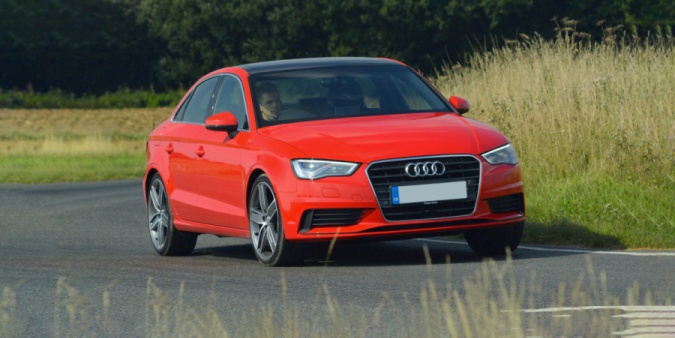audi: (397, 160, 455, 177)
